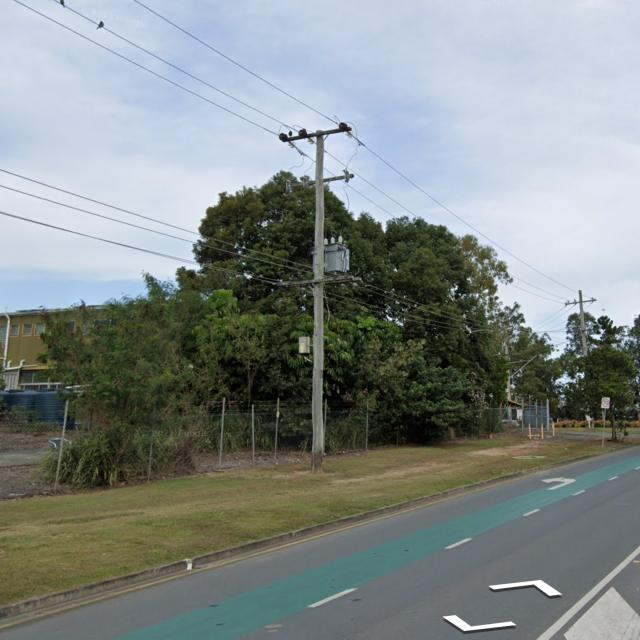HV-transmission: (279, 122, 355, 193), (565, 297, 597, 307)
crossarm: (282, 126, 352, 143), (275, 275, 354, 288), (286, 173, 354, 188), (284, 276, 362, 288), (565, 299, 597, 305)
timber-pole: (309, 130, 325, 474), (503, 324, 512, 428), (578, 289, 588, 356)
transformer: (321, 237, 351, 274)
